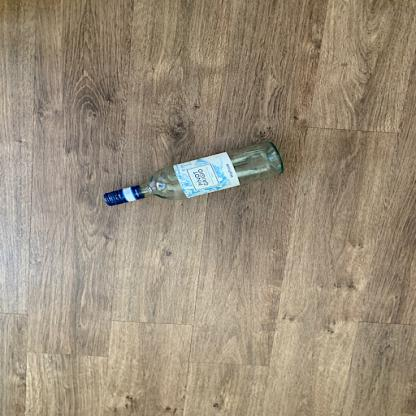trash: (96, 140, 293, 213)
